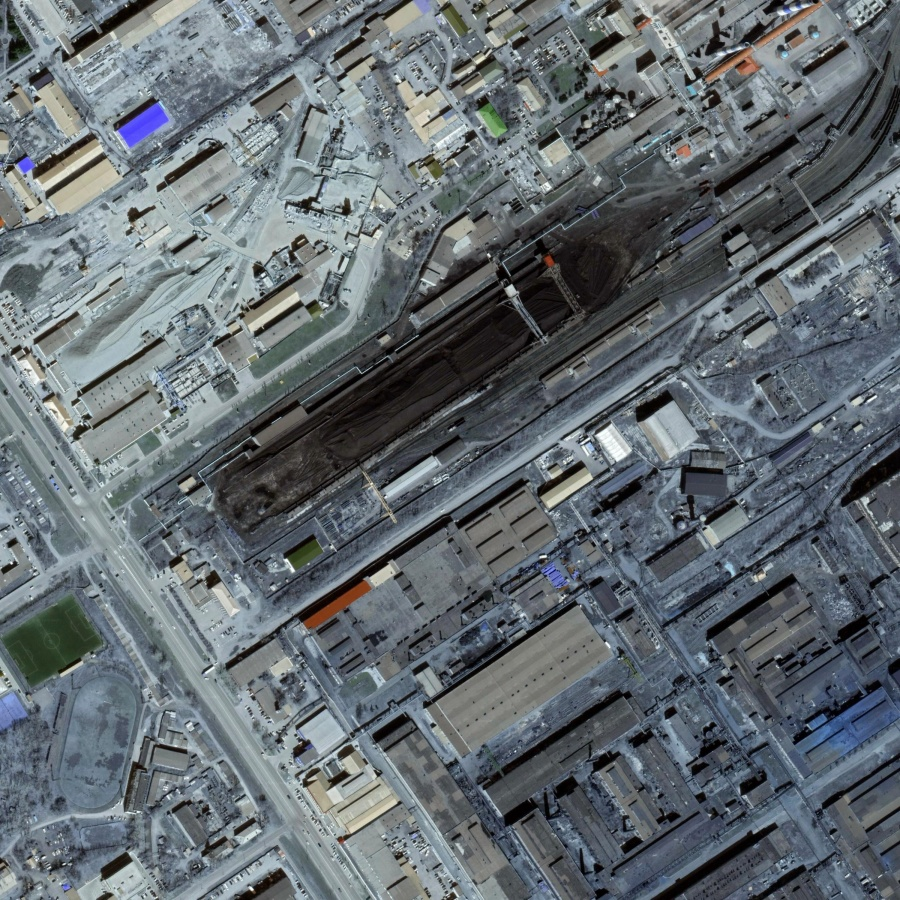PowerPlant: (190, 178, 663, 548)
